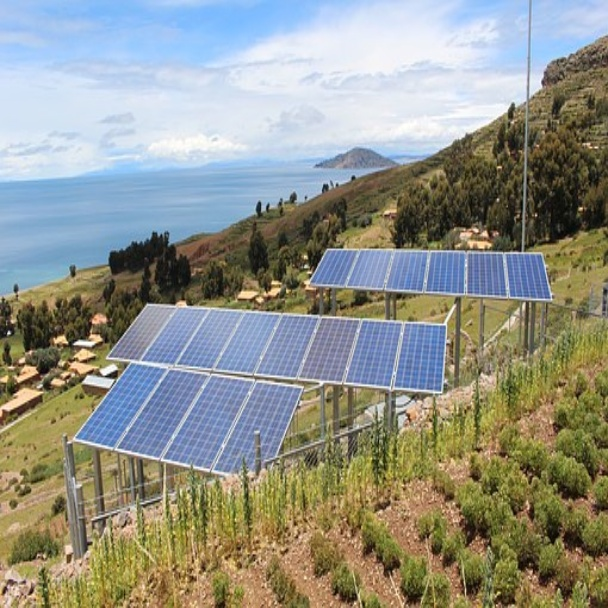solarpanels: (123, 295, 454, 393), (92, 363, 298, 482), (306, 246, 550, 300)
